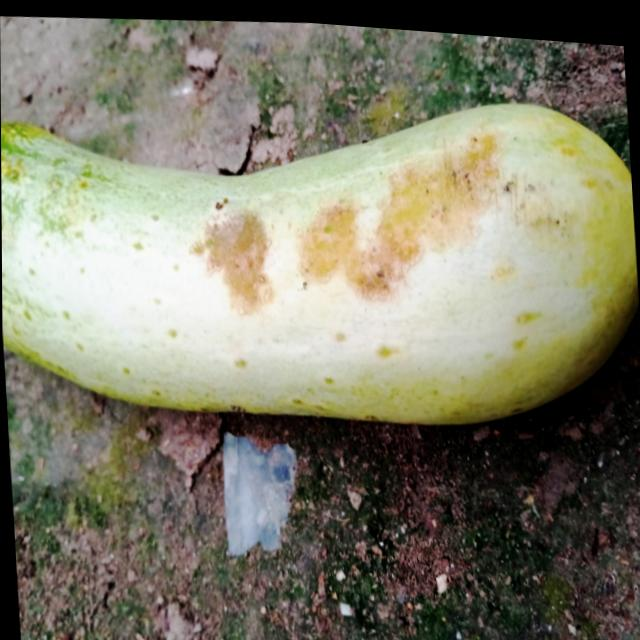Belly-Rot: (184, 102, 517, 339)
